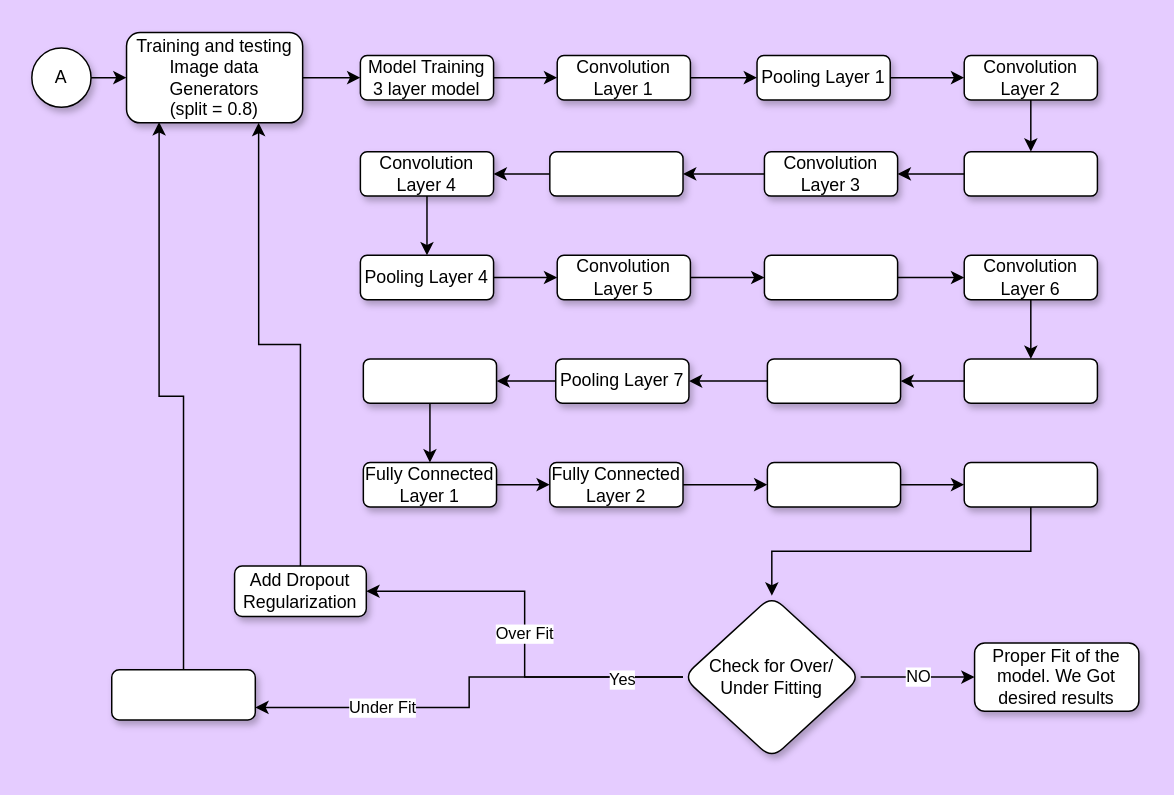
Image size: 1174x795. Some labels were removed from this diagram. The shapes that lost their labels are listed below. From the top down, each one's centre as x and y in pixels, then its label:
At pixel 617 175: "Pooling Layer 3".
At pixel 1031 175: "Pooling Layer 2".
At pixel 831 279: "Pooling Layer 5".
At pixel 430 383: "Flattening".
At pixel 834 383: "Convolution Layer 7".
At pixel 1031 383: "Pooling Layer 6".
At pixel 834 486: "Model Trained".
At pixel 1031 486: "Accuracy Check".
At pixel 184 696: "Remove Excess Dropouts".
